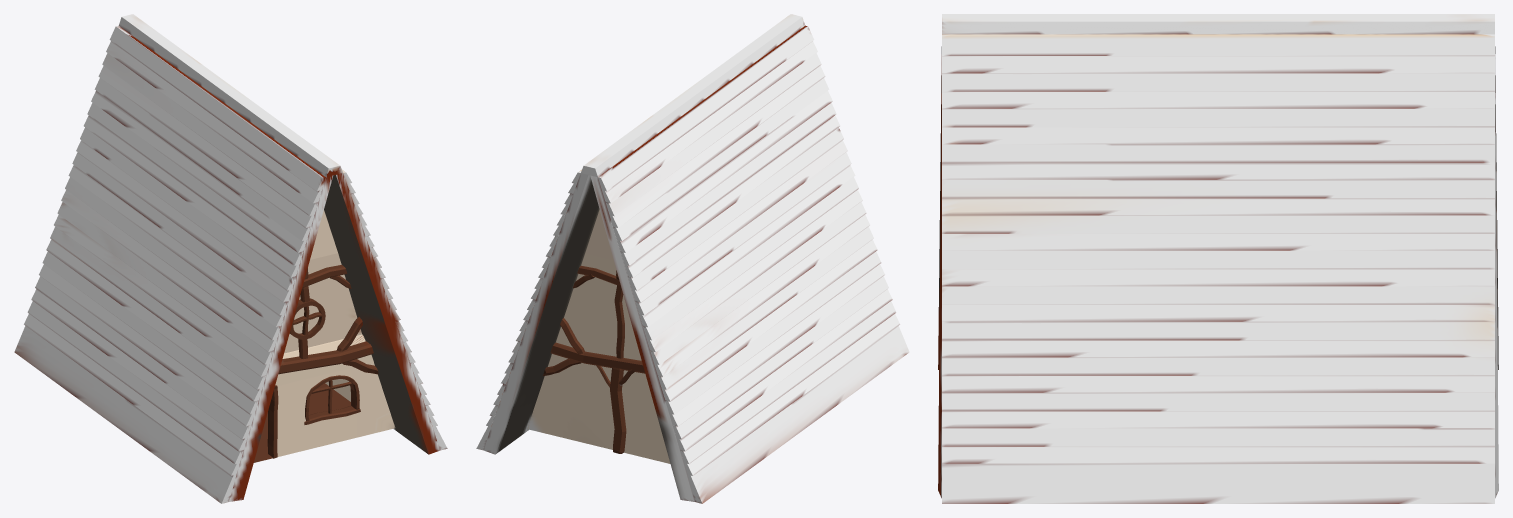
File: CasaMesh3.fbx
3 renders of one model, left to right at view 1: azimuth 30°, elevation 25°; view 2: azimuth 150°, elevation 25°; view 3: azimuth 270°, elevation 25°, orthographic. The views are drawn at different scales.
Visible parts, largest first — view 1: casa; view 2: casa; view 3: casa.
Boxes of the visible parts, x1,y1,x2,y2 form: casa: (14, 14, 447, 503); casa: (476, 14, 909, 503); casa: (938, 14, 1498, 503).
Bounding box in the file's own units: 2152 × 2812 × 3464.
